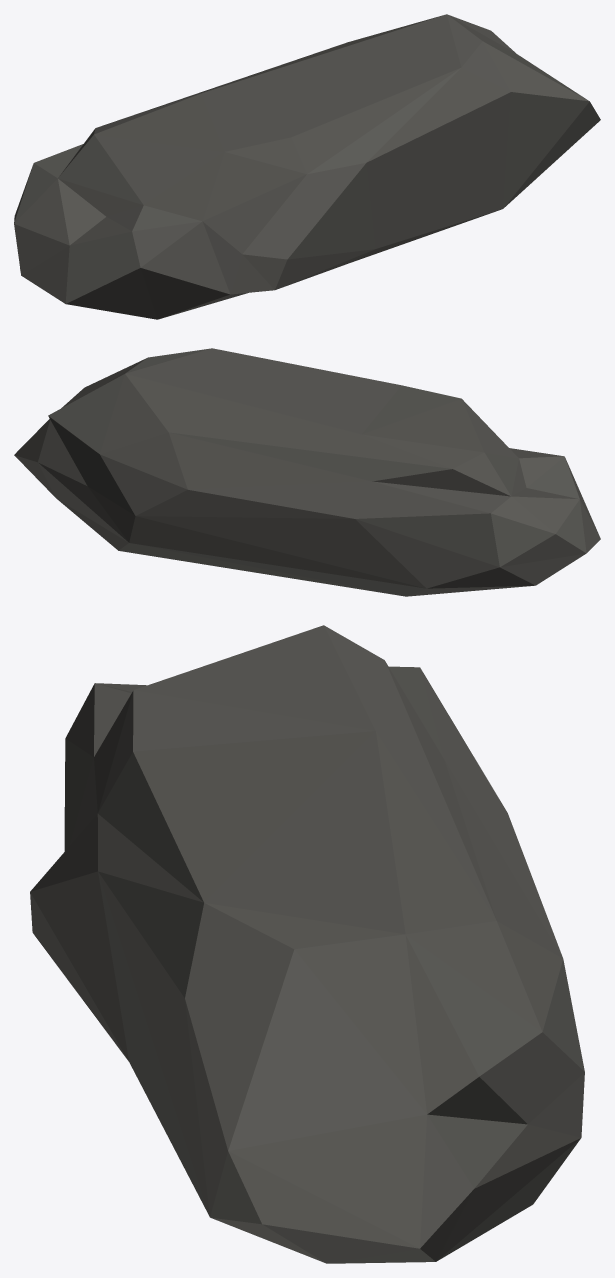
Rendered from alpine_SM_Env_Rock_Small_02.gltf.
3 views of the same model, one above another, from view 1: azimuth 30°, elevation 25°; view 2: azimuth 150°, elevation 25°; view 3: azimuth 270°, elevation 25° (orthographic). The views are drawn at different scales.
Visible parts, largest first — view 1: SM_Env_Rock_Small_02; view 2: SM_Env_Rock_Small_02; view 3: SM_Env_Rock_Small_02.
Boxes of the visible parts, x1,y1,x2,y2 form: SM_Env_Rock_Small_02: [14, 14, 600, 319]; SM_Env_Rock_Small_02: [14, 348, 600, 596]; SM_Env_Rock_Small_02: [30, 625, 584, 1263].
Bounding box in the file's own units: 1.97 × 0.5403 × 0.8935.
Materials: 1 (1 with a texture image).
